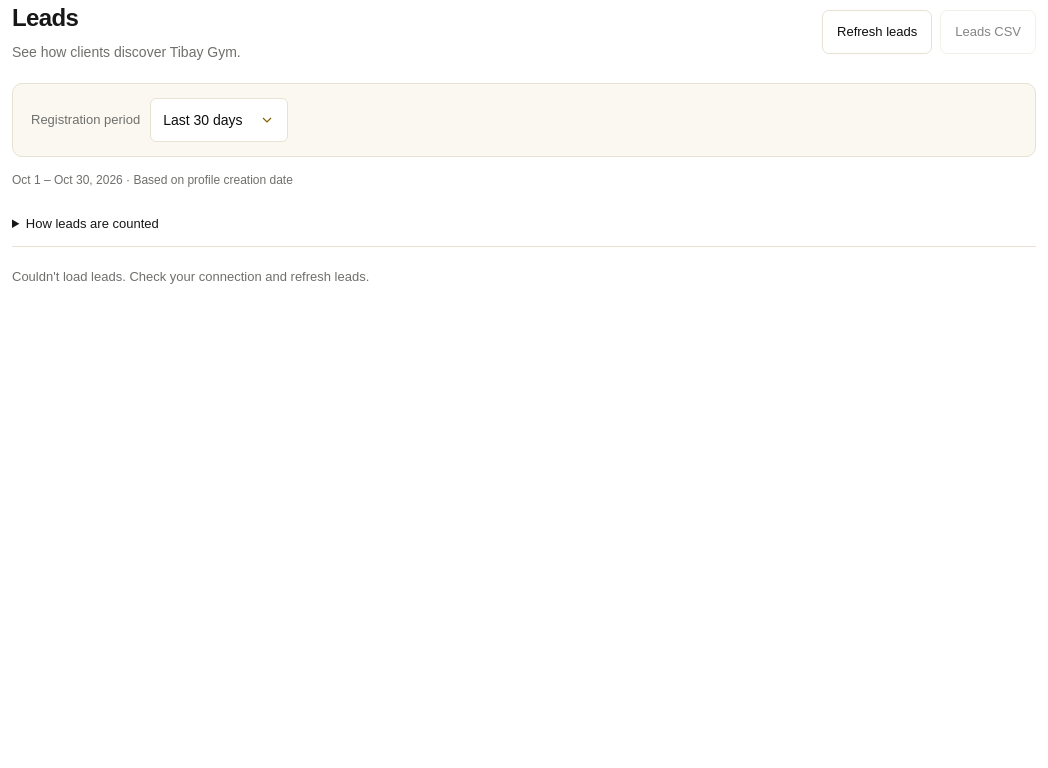
recovers failed reads through refresh and displays an empty period
Expected: the message shows "Couldn't load leads", [12, 269, 369, 284]
Click the button "Refresh leads" at (877,32), box [822, 10, 932, 54]
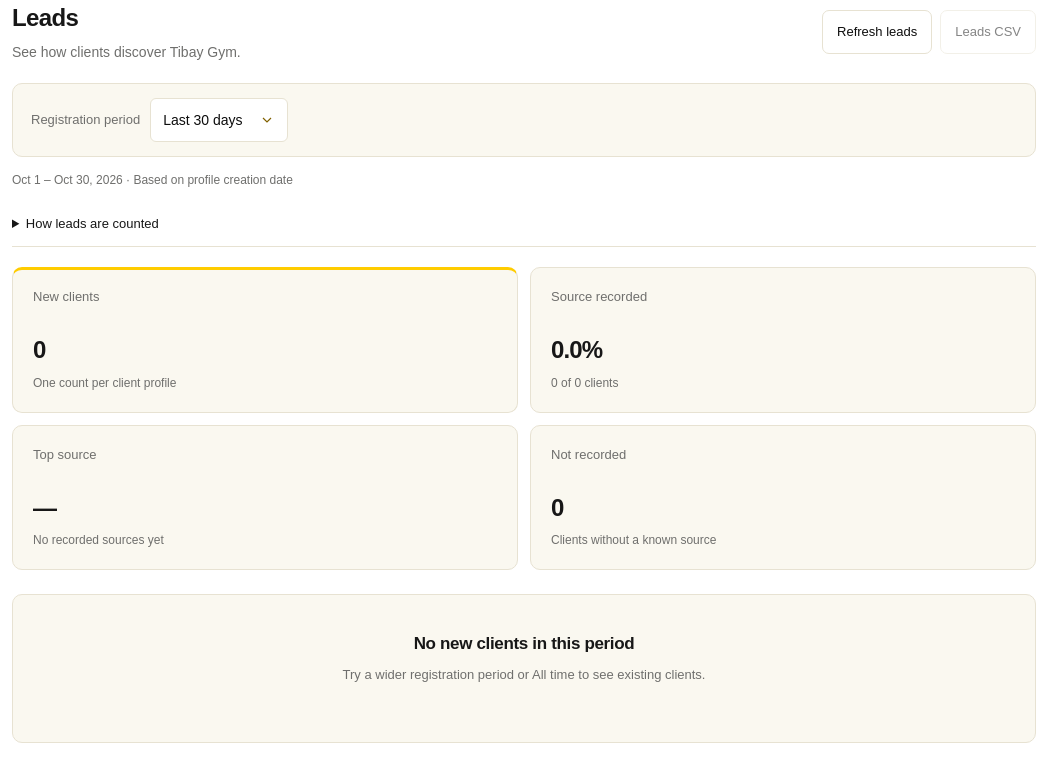
Expected: the message "Couldn't load leads. Check your connection and refresh leads." is gone
Expected: the heading "No new clients in this period" is shown, [414, 634, 634, 653]
